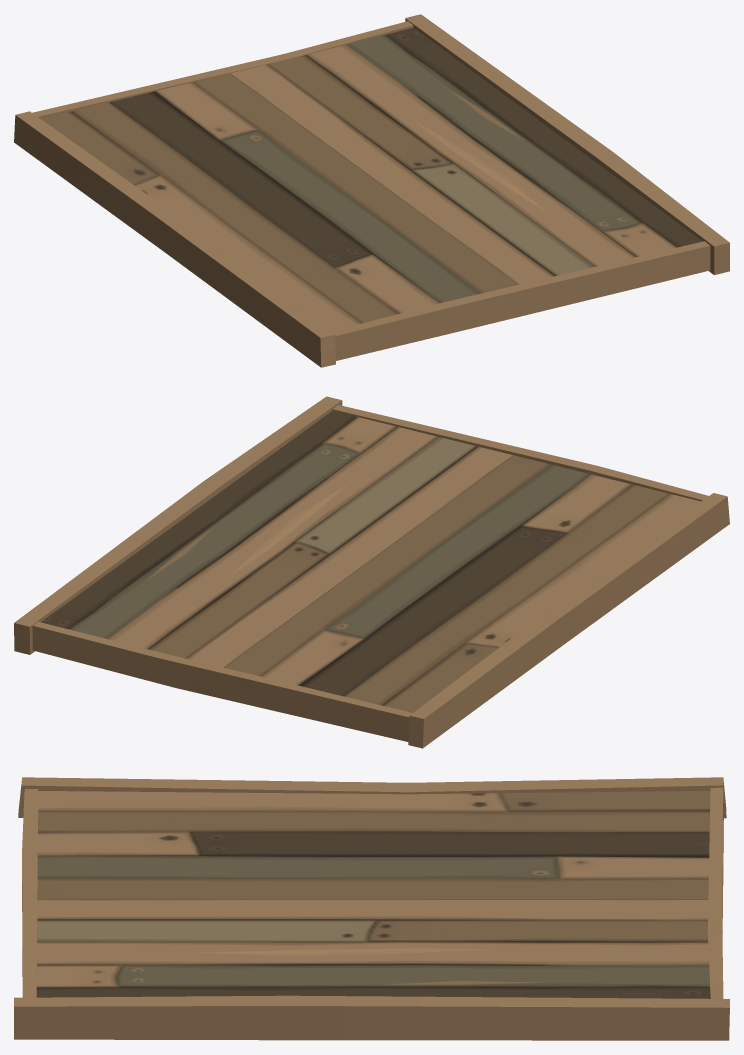
Rendered from SM_Bld_Dock_04.fbx.
3 views of the same model, one above another, from view 1: azimuth 30°, elevation 25°; view 2: azimuth 150°, elevation 25°; view 3: azimuth 270°, elevation 25° (orthographic). The views are drawn at different scales.
Visible parts, largest first — view 1: SM_Bld_Dock_04; view 2: SM_Bld_Dock_04; view 3: SM_Bld_Dock_04.
Part boxes in pixels (bbox=[...]): SM_Bld_Dock_04: bbox=[14, 14, 729, 367]; SM_Bld_Dock_04: bbox=[14, 396, 729, 748]; SM_Bld_Dock_04: bbox=[14, 777, 729, 1040].
Bounding box in the file's own units: 395 × 30.5 × 520.
